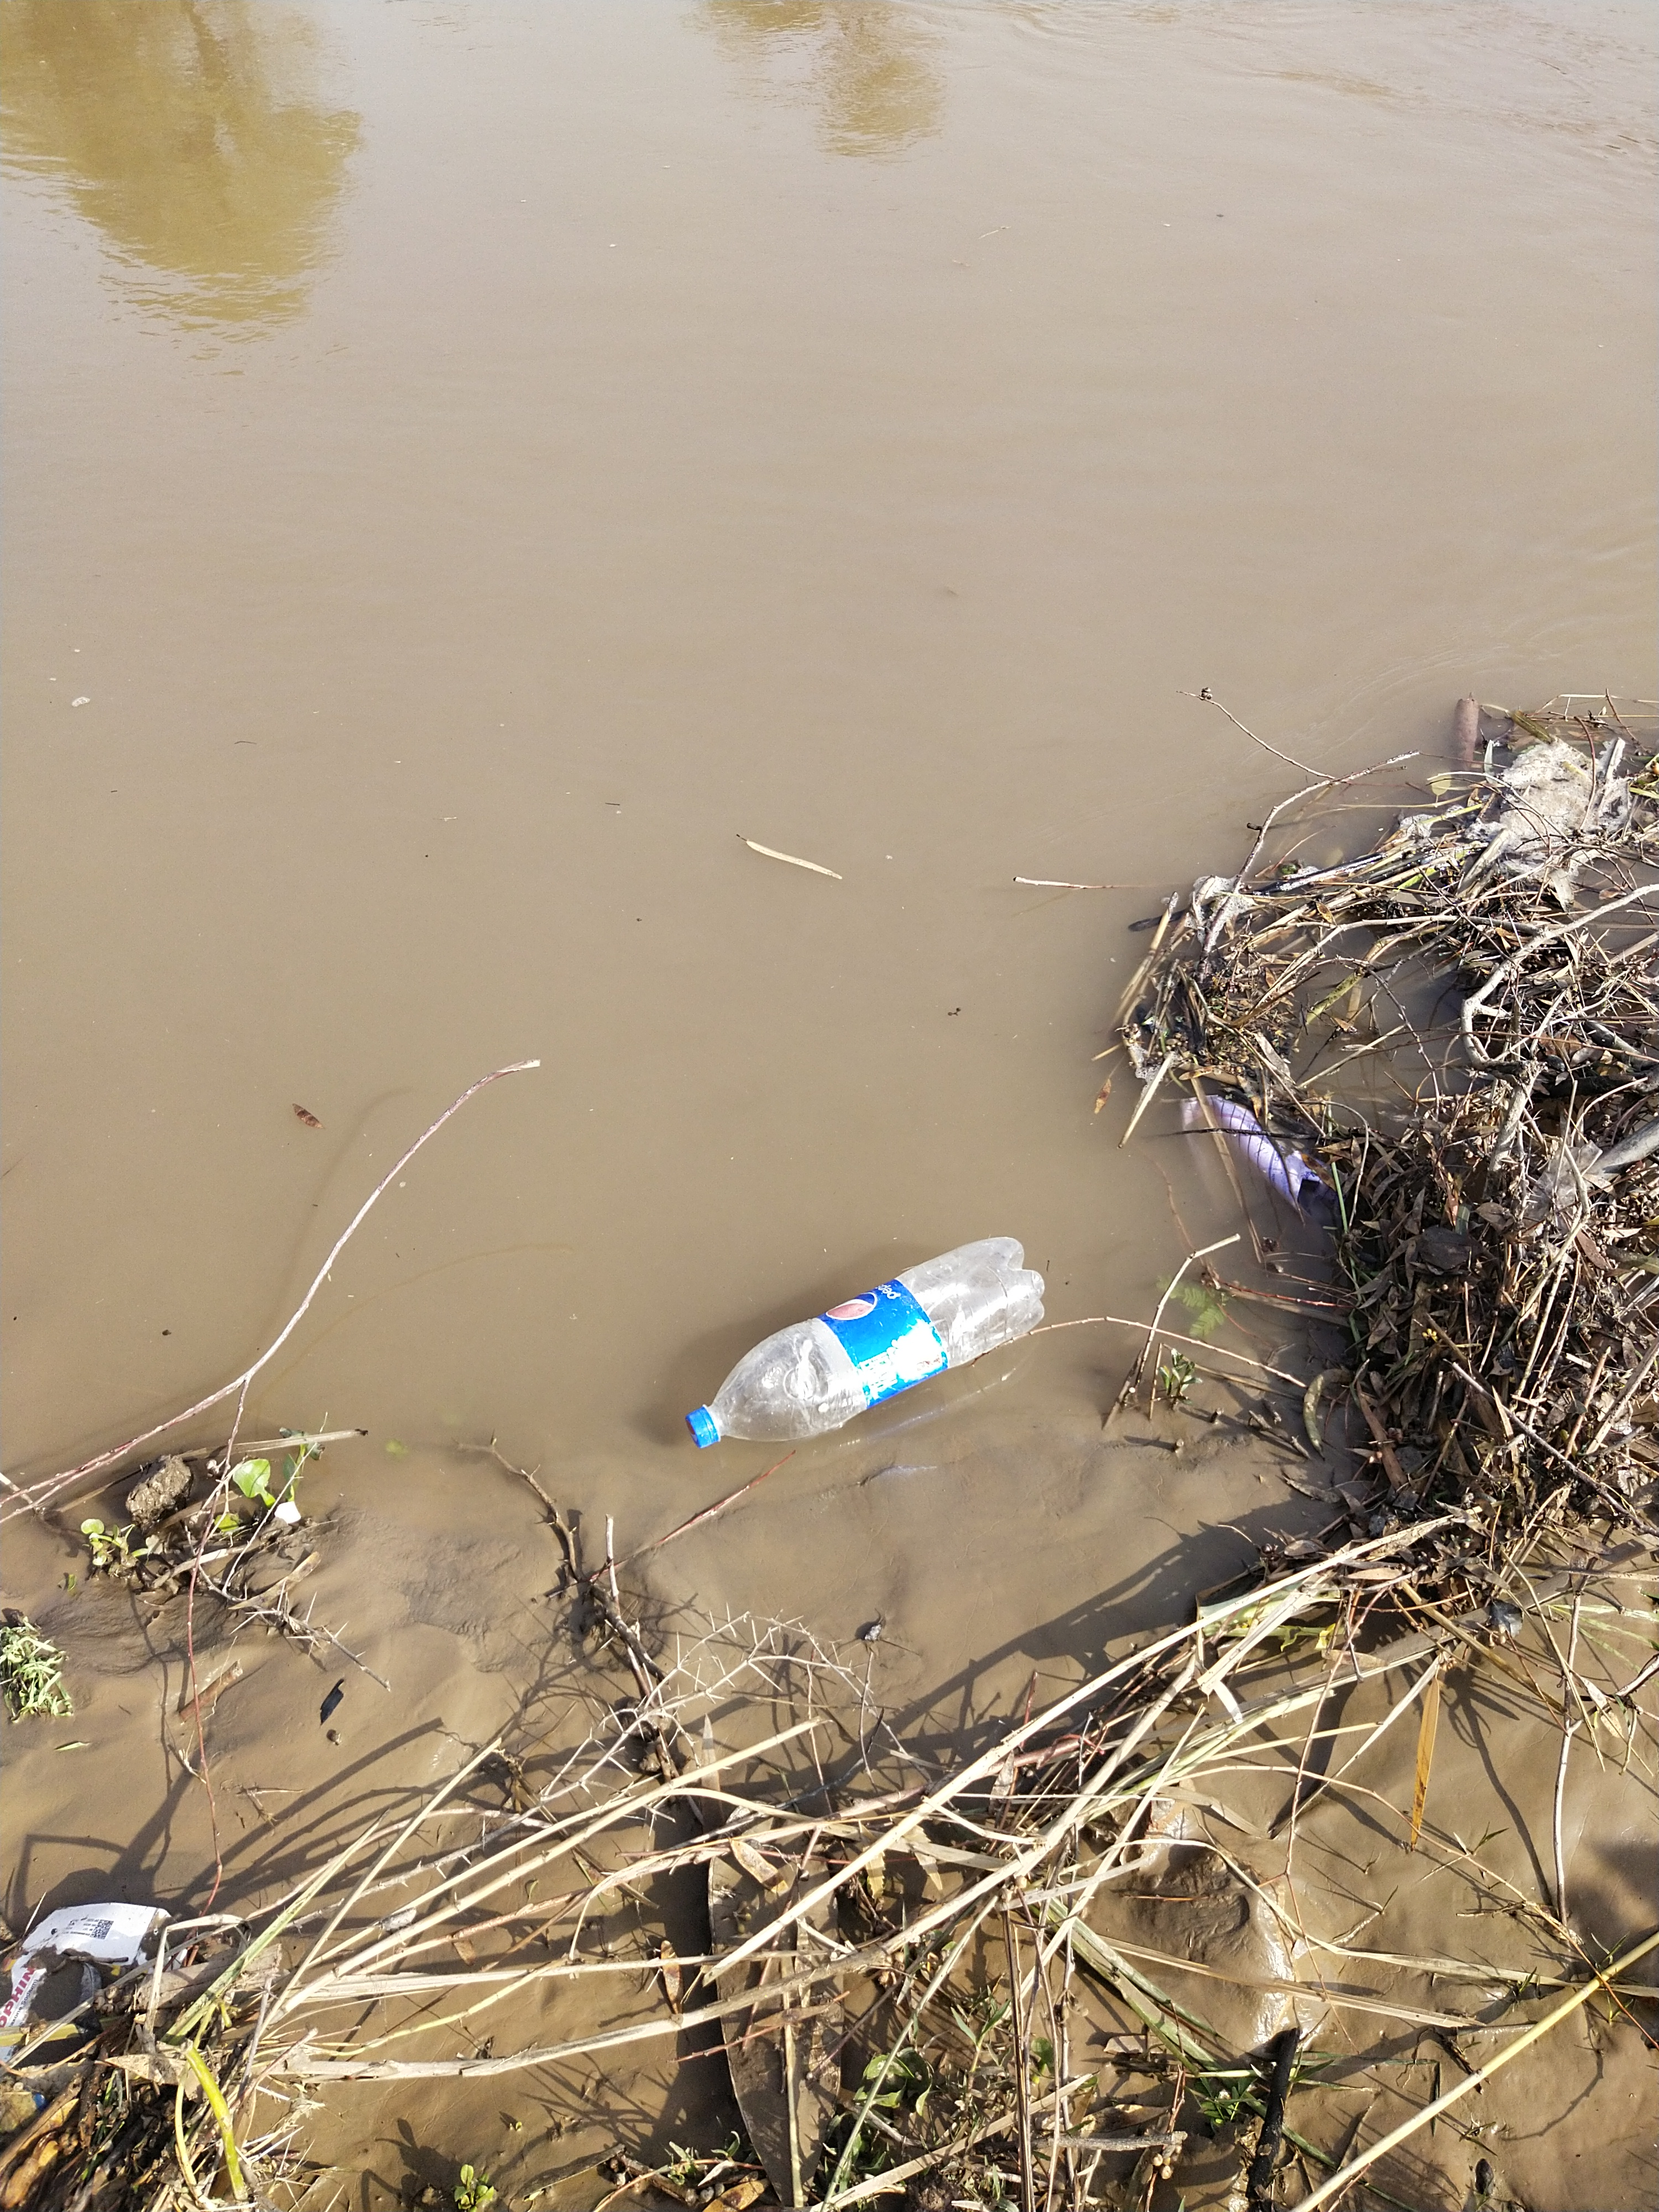Plastic Bottle: (685, 1237, 1046, 1449)
